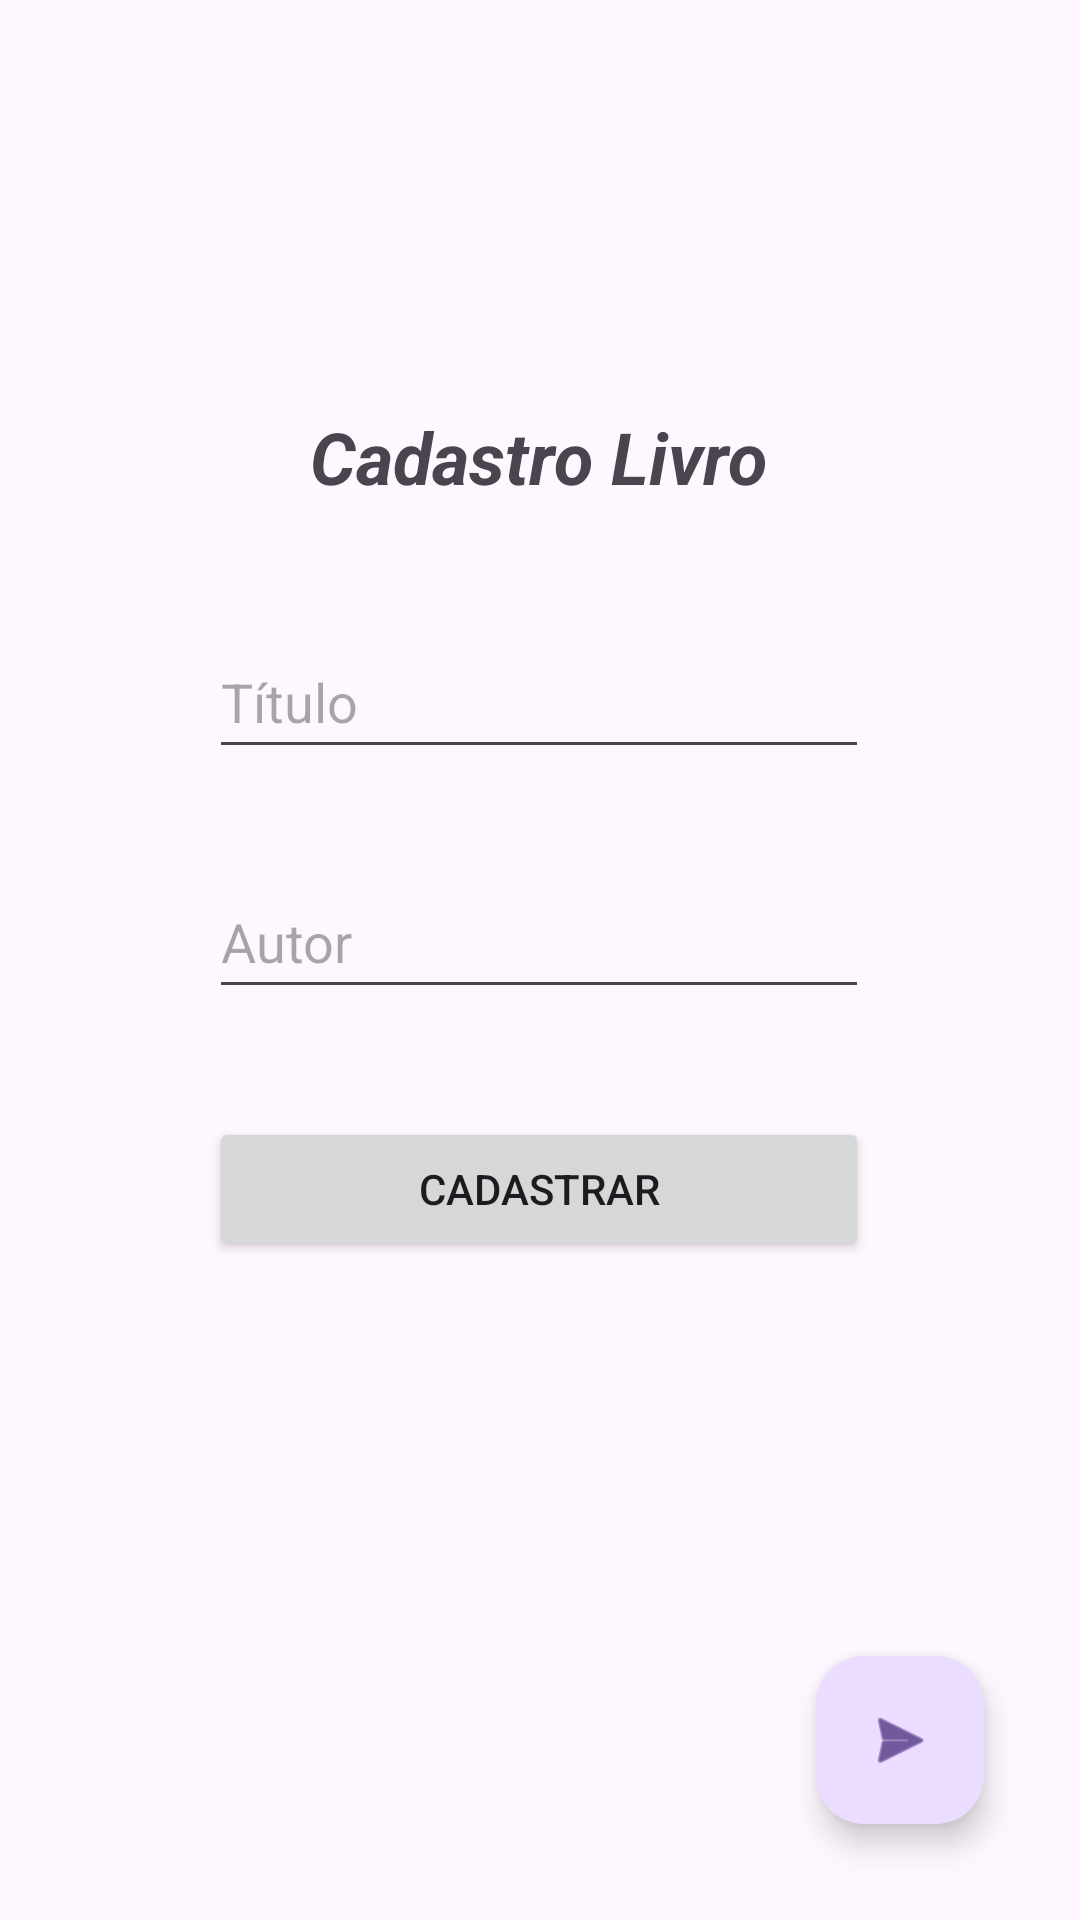

Point at icon controls on the screen. Image size 1080w x 1920h, points as [x,y].
Ir para a tela de detalhamento: [900,1740]
